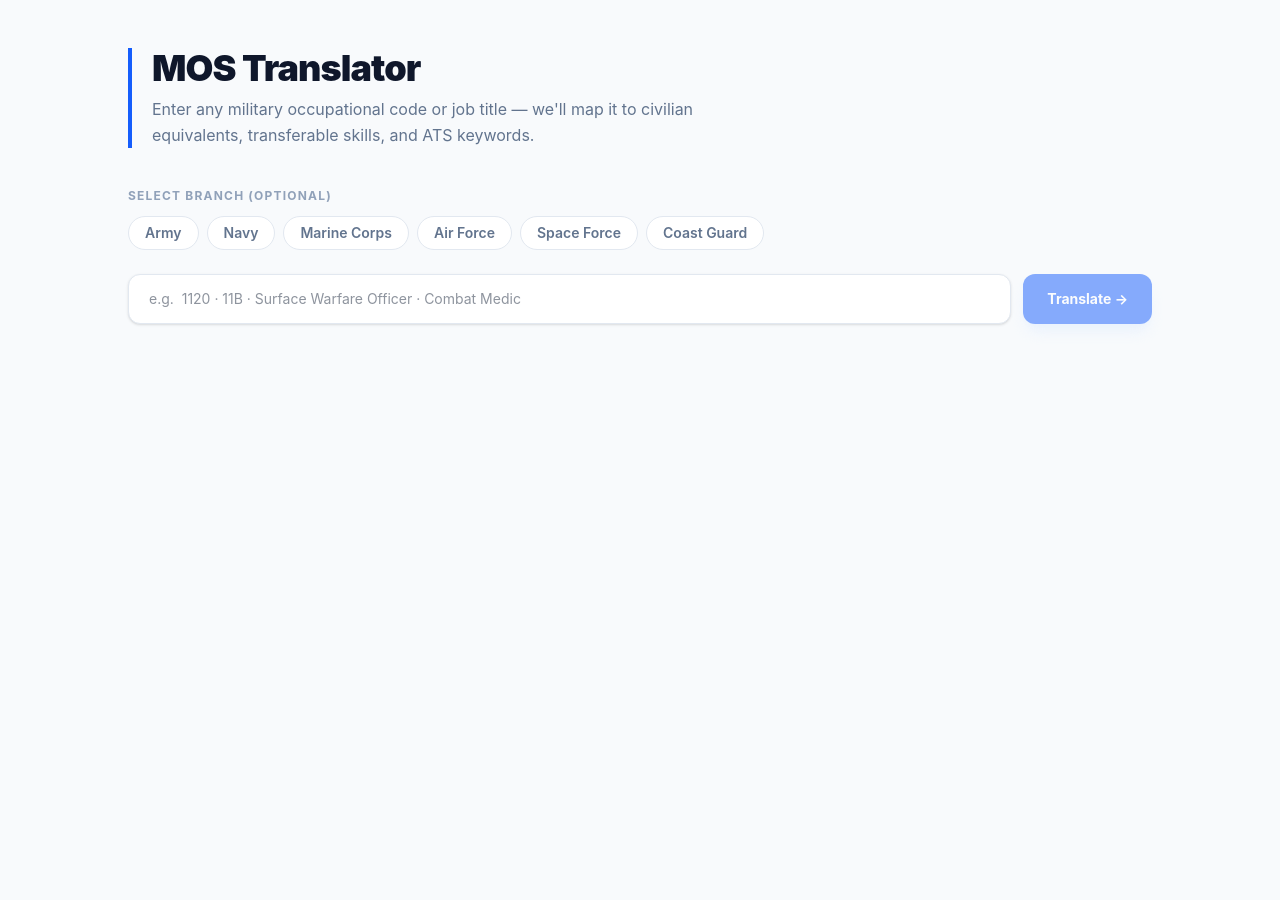
Test: TranslatorPage › displays the branch, code, and military title after a successful translation
Type "11B" into the field at (570, 299), box x1=128 y1=274 x2=1011 y2=324
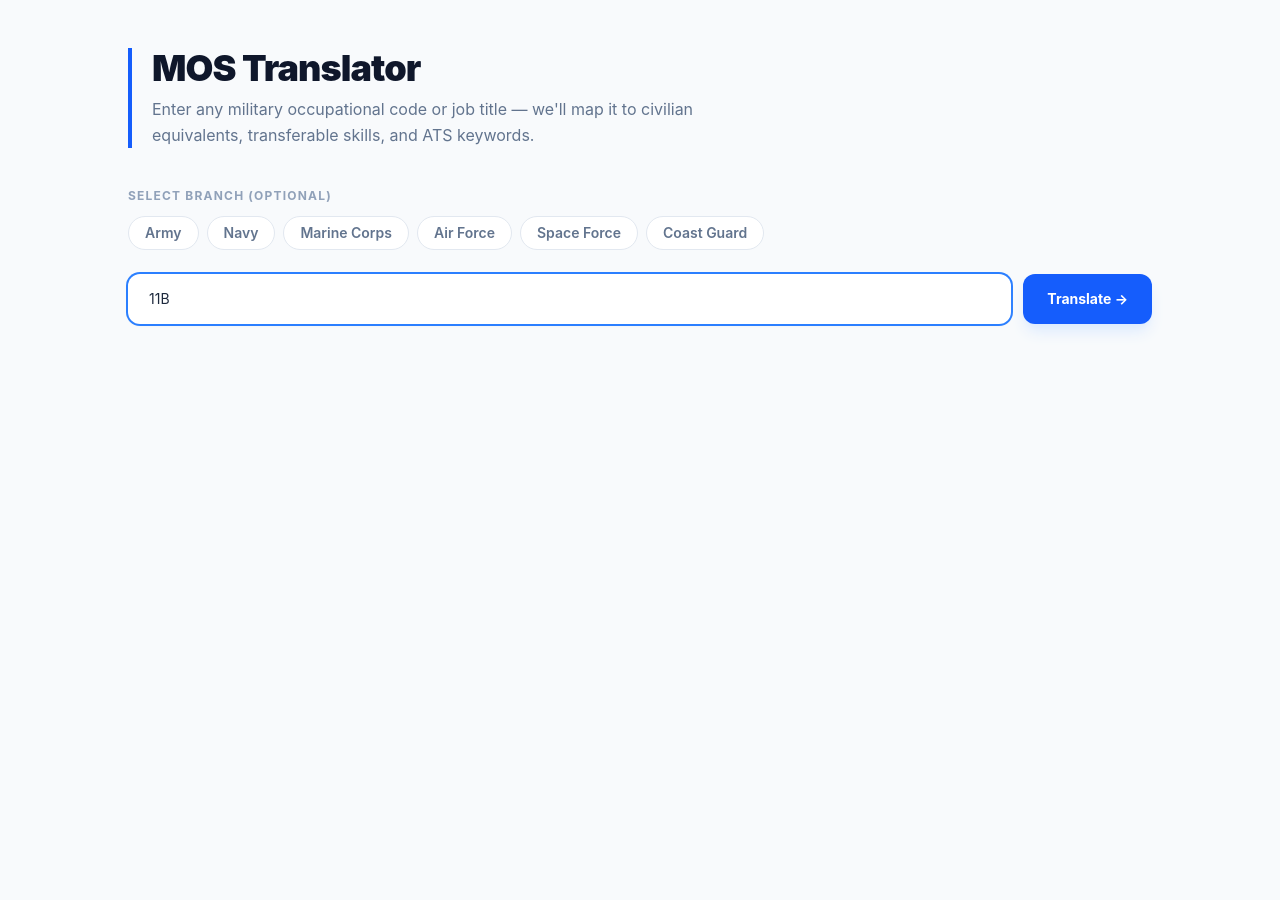
Click the button "Translate →" at (1088, 299), box x1=1023 y1=274 x2=1152 y2=324
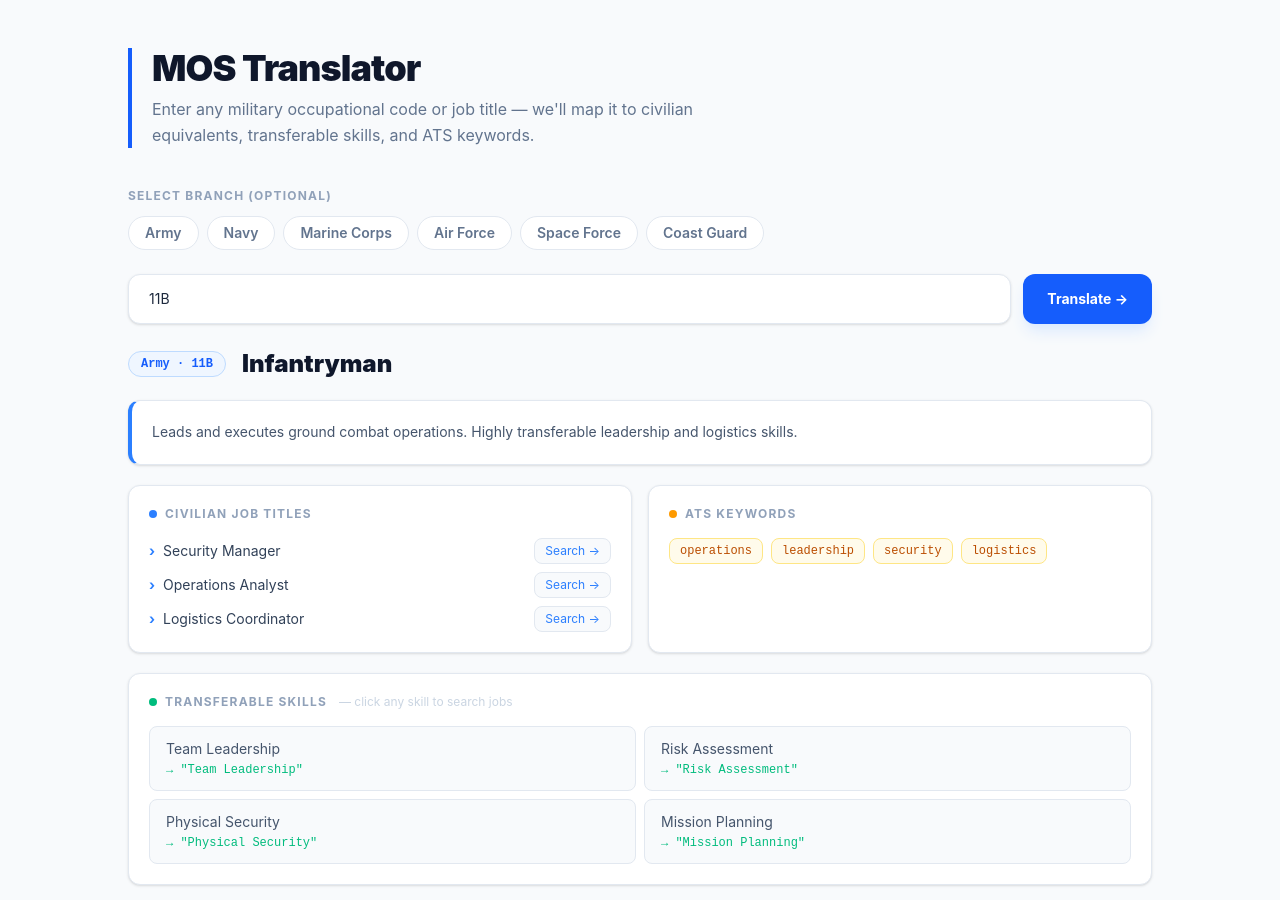
Result: the heading "Infantryman" is shown at x1=242 y1=348 x2=392 y2=380
Result: the text "Army · 11B" is shown at x1=128 y1=351 x2=226 y2=377
